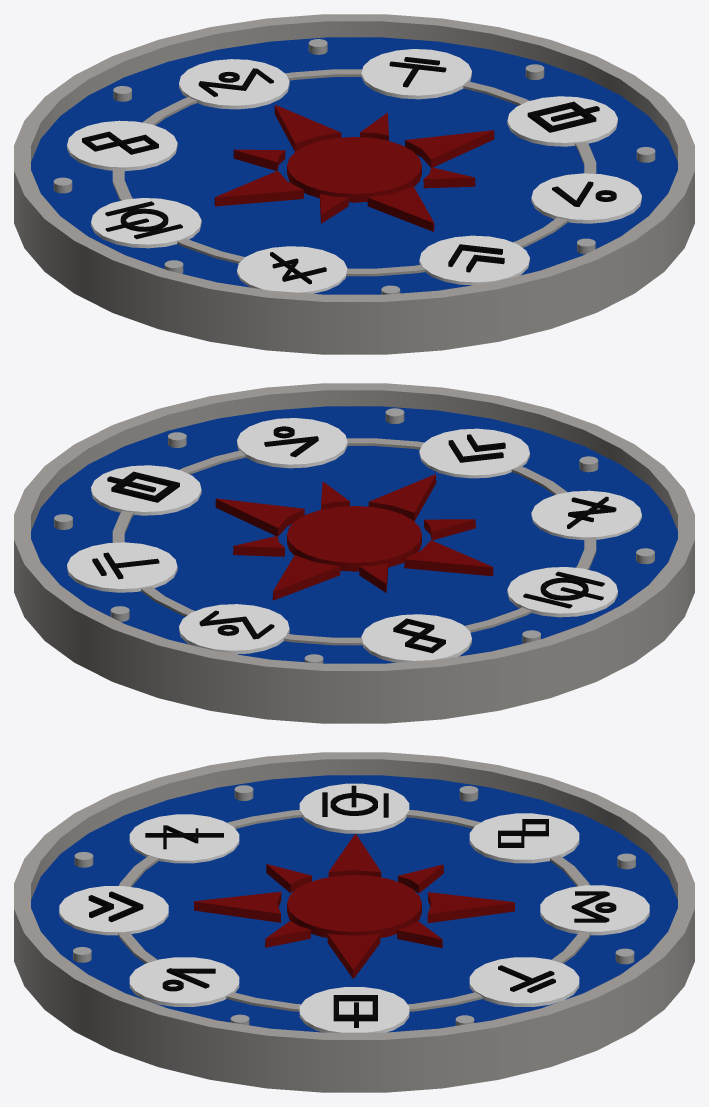
The model's file is final_compass.fbx.
3 renders of one model, top to bottom at view 1: azimuth 30°, elevation 25°; view 2: azimuth 150°, elevation 25°; view 3: azimuth 270°, elevation 25°, orthographic.
Parts seen in each view (by area): view 1: base, rim, CENTER, rim1, LEFT_UP, DOWN_LEFT, DOWN, UP, RIGHT_DOWN, UP_RIGHT, RIGHT, LEFT (+15 smaller); view 2: base, rim, CENTER, rim1, DOWN_LEFT, LEFT_UP, UP, UP_RIGHT, DOWN, RIGHT_DOWN, RIGHT, LEFT (+15 smaller); view 3: base, rim, CENTER, rim1, DOWN_LEFT, LEFT_UP, UP_RIGHT, RIGHT_DOWN, DOWN, RIGHT, UP, LEFT (+16 smaller).
Part boxes in pixels (left/top/right/bottom): base: left=31, top=37, right=677, bottom=294; rim: left=14, top=14, right=694, bottom=354; CENTER: left=287, top=137, right=421, bottom=202; rim1: left=112, top=69, right=596, bottom=276; LEFT_UP: left=531, top=173, right=641, bottom=223; DOWN_LEFT: left=361, top=49, right=471, bottom=99; DOWN: left=179, top=59, right=289, bottom=109; UP: left=419, top=235, right=529, bottom=285; RIGHT_DOWN: left=67, top=120, right=177, bottom=171; UP_RIGHT: left=237, top=246, right=347, bottom=293; RIGHT: left=91, top=198, right=201, bottom=248; LEFT: left=507, top=96, right=617, bottom=146; base: left=31, top=406, right=677, bottom=663; rim: left=14, top=383, right=694, bottom=723; CENTER: left=287, top=506, right=421, bottom=571; rim1: left=112, top=438, right=596, bottom=645; DOWN_LEFT: left=67, top=542, right=177, bottom=592; LEFT_UP: left=237, top=418, right=347, bottom=468; UP: left=419, top=428, right=529, bottom=478; UP_RIGHT: left=531, top=490, right=641, bottom=540; DOWN: left=179, top=604, right=289, bottom=654; RIGHT_DOWN: left=361, top=614, right=471, bottom=662; RIGHT: left=507, top=567, right=617, bottom=617; LEFT: left=91, top=465, right=201, bottom=515; base: left=31, top=775, right=677, bottom=1032; rim: left=14, top=752, right=694, bottom=1092; CENTER: left=287, top=875, right=421, bottom=937; rim1: left=118, top=810, right=590, bottom=1011; DOWN_LEFT: left=469, top=957, right=579, bottom=1006; LEFT_UP: left=129, top=957, right=239, bottom=1006; UP_RIGHT: left=129, top=814, right=239, bottom=863; RIGHT_DOWN: left=469, top=813, right=579, bottom=863; DOWN: left=540, top=885, right=649, bottom=935; RIGHT: left=299, top=783, right=409, bottom=833; UP: left=59, top=886, right=168, bottom=935; LEFT: left=299, top=987, right=409, bottom=1032.
Size of the model in its own units: 1.89 by 0.2028 by 1.89.
